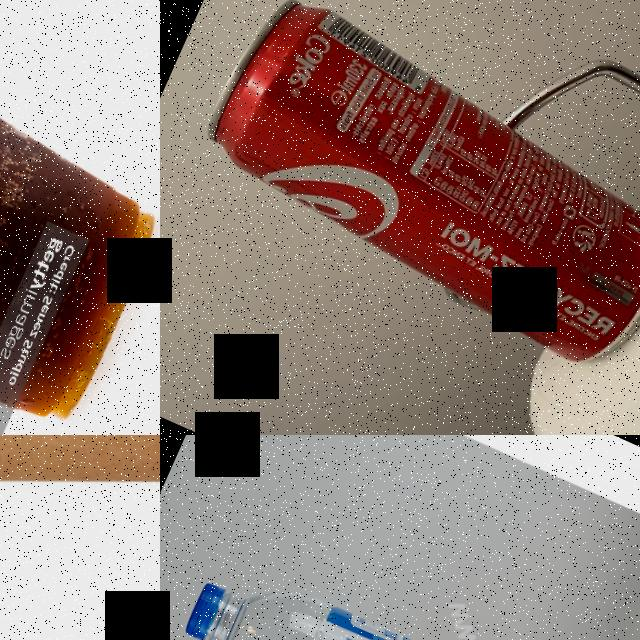bottle: (169, 549, 617, 640)
can: (180, 0, 640, 386)
cup: (0, 0, 160, 435), (0, 435, 160, 629)
